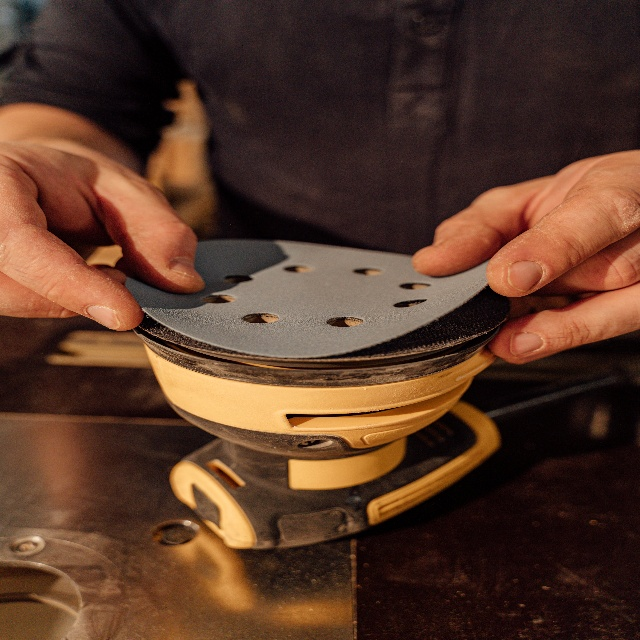Sin_guantes: (412, 147, 640, 369), (0, 100, 205, 329)
